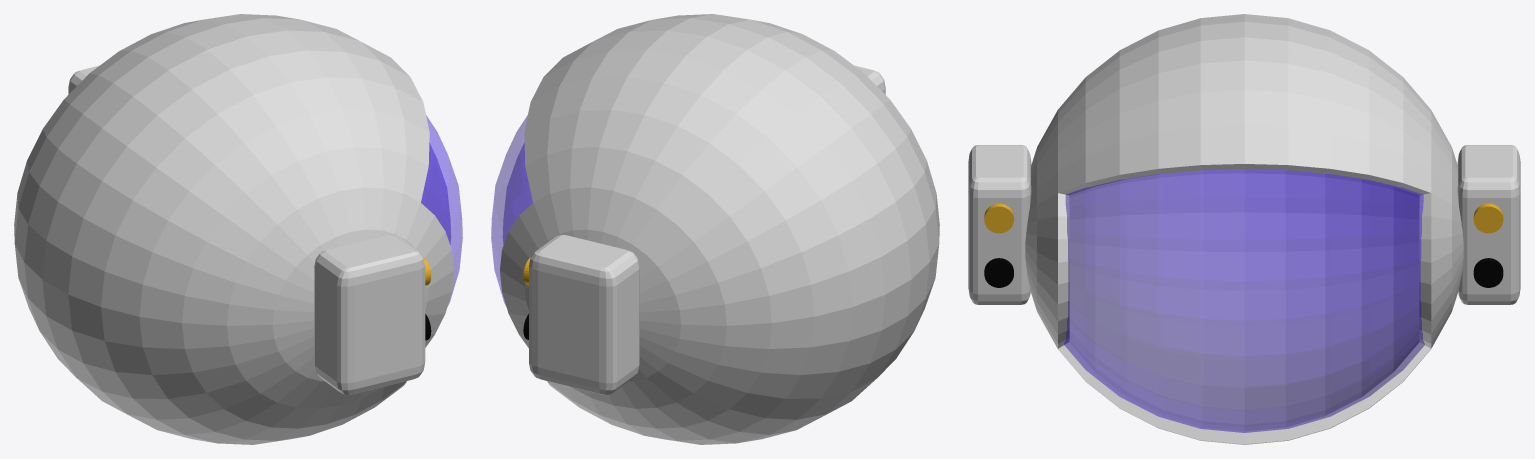
The model's file is cascoAstronauta.glb.
3 views of the same model, side by side, from view 1: azimuth 30°, elevation 25°; view 2: azimuth 150°, elevation 25°; view 3: azimuth 270°, elevation 25° (orthographic).
Visible parts, largest first — view 1: Sphere, Cube.001, Sphere.001; view 2: Sphere, Cube, Sphere.001; view 3: Sphere, Sphere.001, Cube.001, Cube, Circle.001, Circle, Circle.002, Circle.003.
Boxes of the visible parts, <box> form: Sphere: <box>14,14,453,444</box>; Cube.001: <box>314,235,425,394</box>; Sphere.001: <box>421,115,462,305</box>; Sphere: <box>500,14,939,444</box>; Cube: <box>529,235,639,394</box>; Sphere.001: <box>491,115,532,305</box>; Sphere: <box>1025,14,1463,444</box>; Sphere.001: <box>1064,169,1424,432</box>; Cube.001: <box>968,145,1031,304</box>; Cube: <box>1457,145,1520,304</box>; Circle.001: <box>1473,258,1503,287</box>; Circle: <box>1473,203,1503,233</box>; Circle.002: <box>984,203,1013,233</box>; Circle.003: <box>984,258,1013,287</box>.
Bounding box in the file's own units: 1.92 × 1.8 × 2.35.
